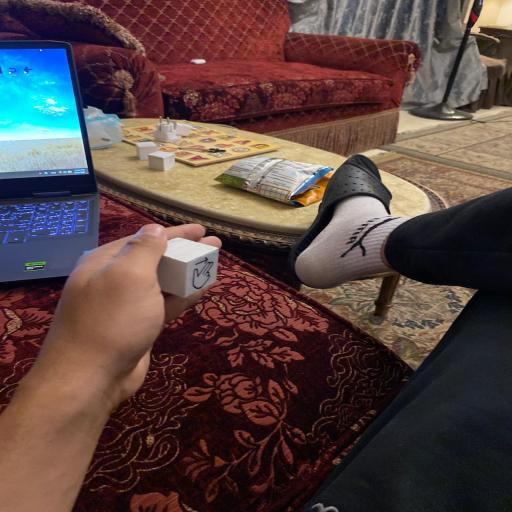RightSwipe: (154, 236, 221, 299)
